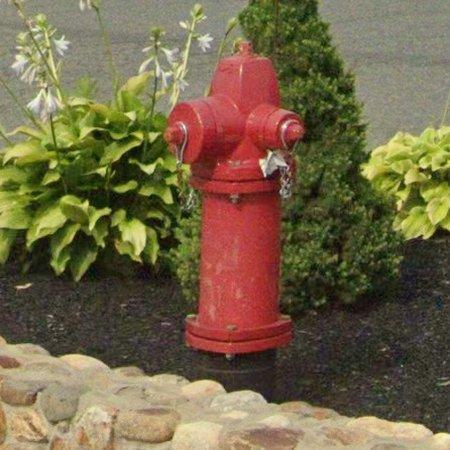a fire hydrant: (165, 41, 306, 356)
